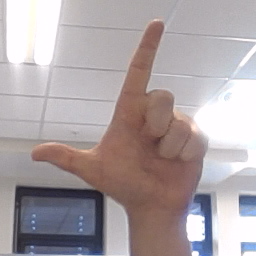L: (30, 15, 212, 219)
